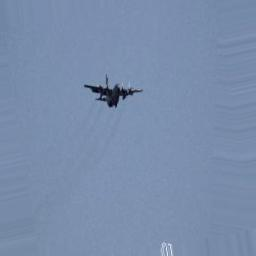Airplane: (83, 79, 147, 111)
